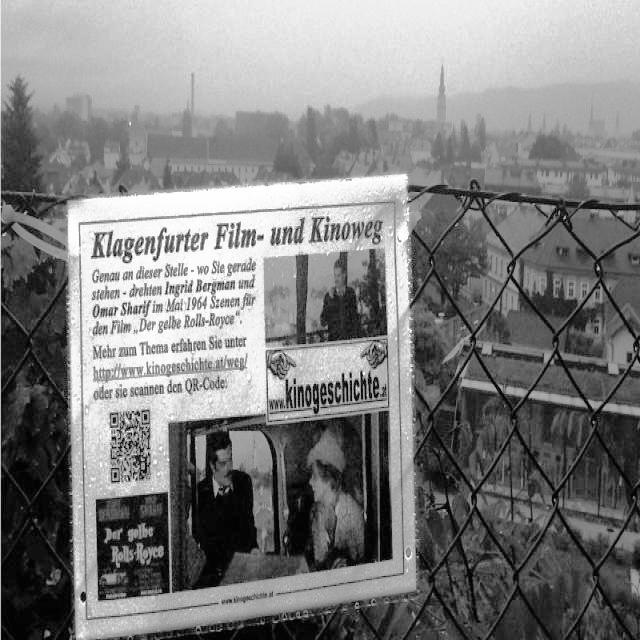qr_code: (110, 410, 151, 482)
